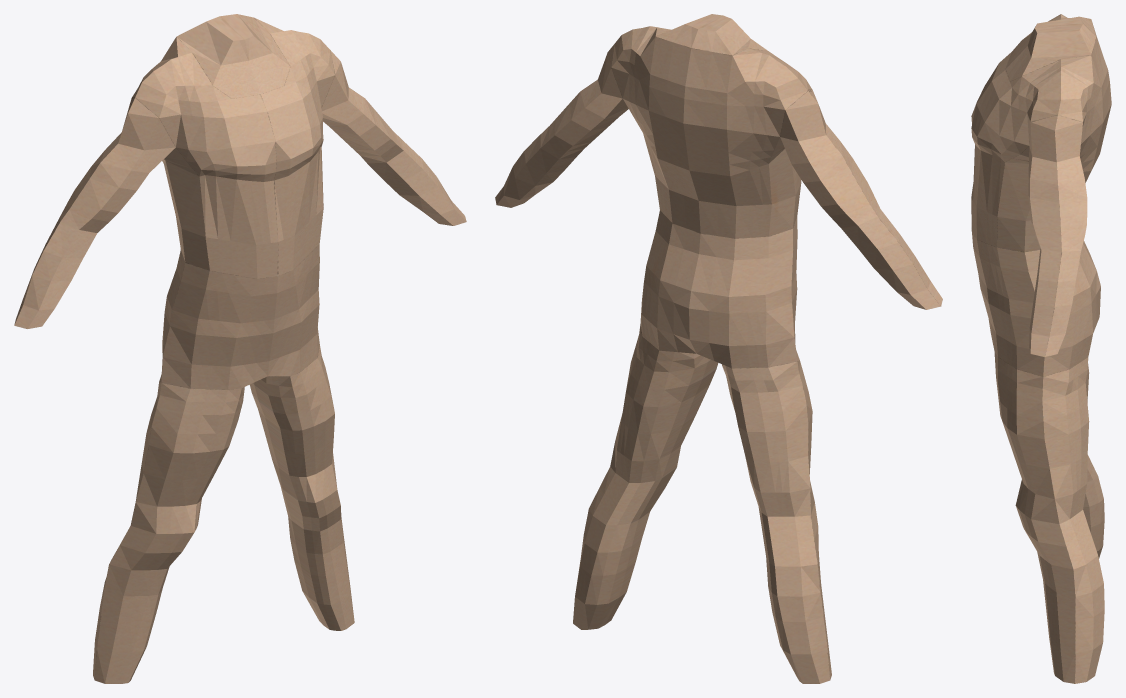
Rendered from human.obj.
3 renders of one model, left to right at view 1: azimuth 30°, elevation 25°; view 2: azimuth 150°, elevation 25°; view 3: azimuth 270°, elevation 25°, orthographic. The views are drawn at different scales.
Visible parts, largest first — view 1: Human; view 2: Human; view 3: Human.
Boxes of the visible parts, x1,y1,x2,y2 form: Human: (14,14,466,683); Human: (495,14,942,683); Human: (971,14,1111,683).
Size of the model in its own units: 4.26 by 5.69 by 1.21.
